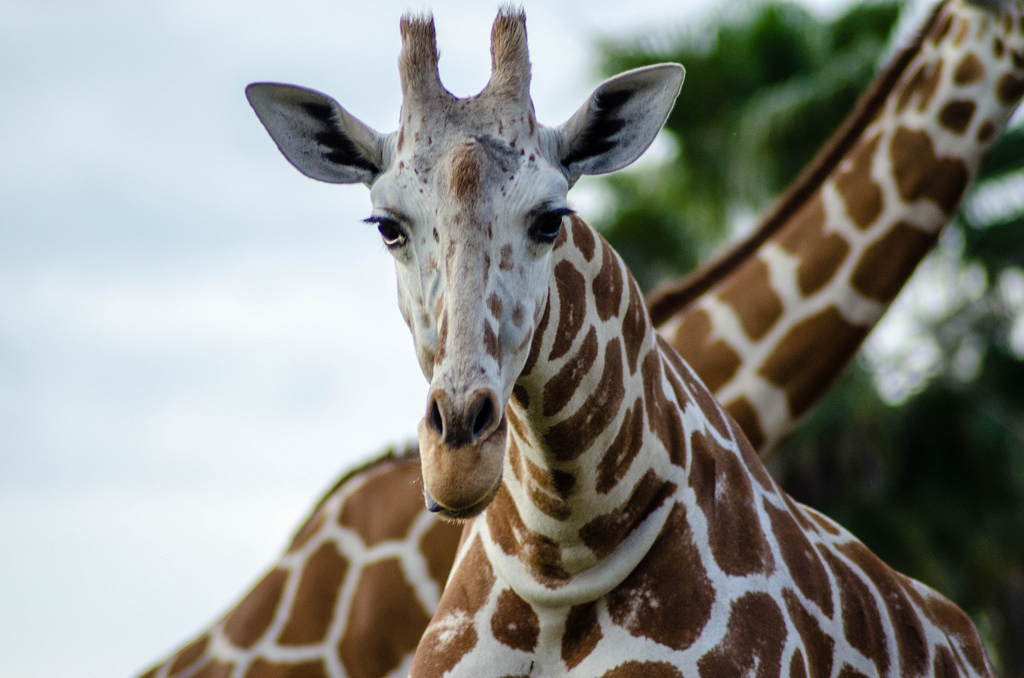giraffe: (246, 32, 923, 663)
